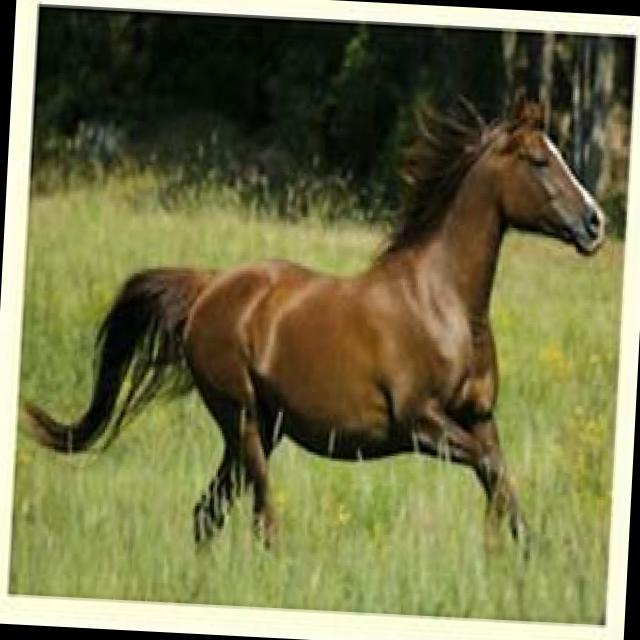horse: (16, 64, 616, 573)
